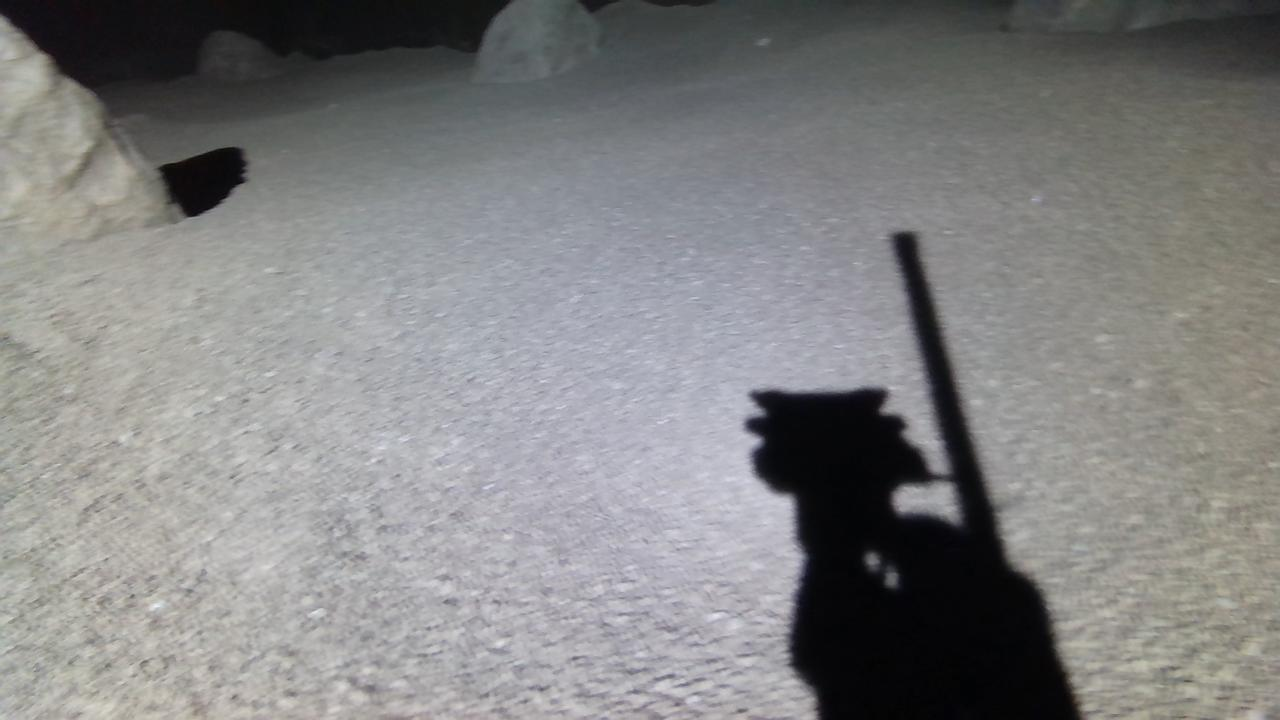rock: (0, 15, 180, 252), (471, 0, 601, 80), (1009, 0, 1280, 30), (197, 30, 284, 80)
